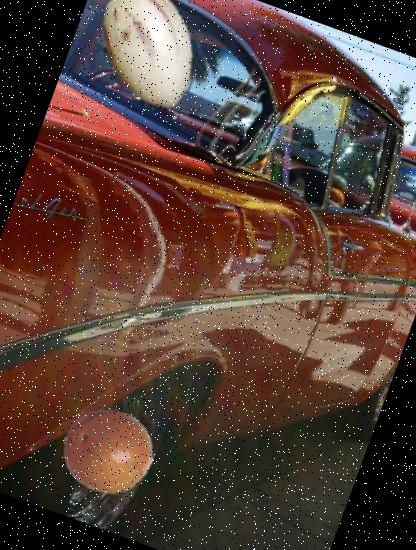Pepino: (64, 0, 229, 129)
Tangelo: (49, 392, 167, 510)
